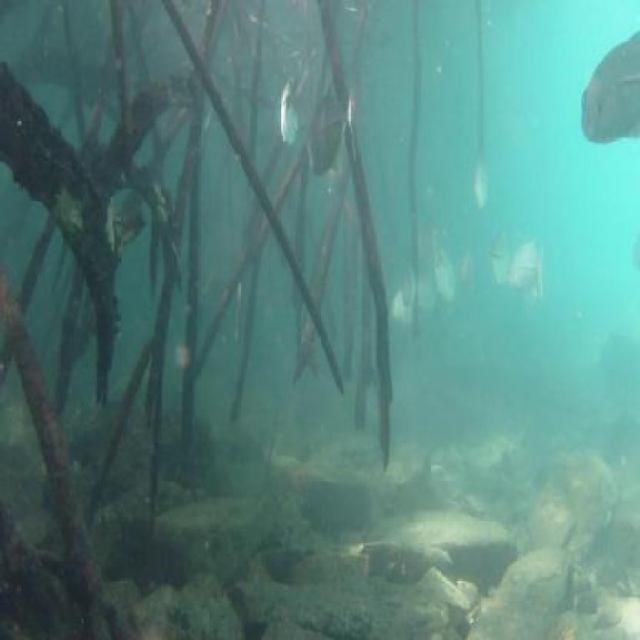Caranx_sexfasciatus_juvenile: (578, 34, 640, 141), (308, 85, 357, 178), (508, 240, 544, 302), (429, 233, 457, 309), (276, 73, 302, 147), (488, 230, 510, 290), (389, 285, 414, 330), (398, 257, 419, 305), (469, 162, 489, 210), (458, 241, 476, 290)
